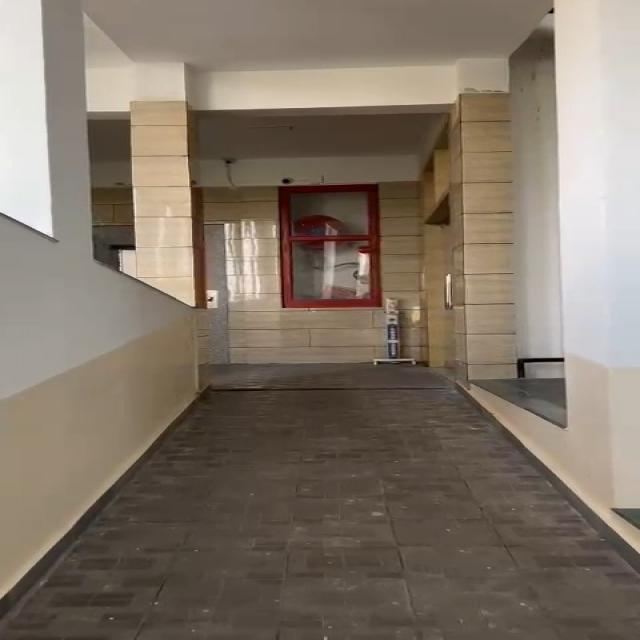door: (259, 172, 398, 330)
floor: (171, 399, 556, 640)
wall: (8, 4, 232, 486), (406, 20, 640, 443)
